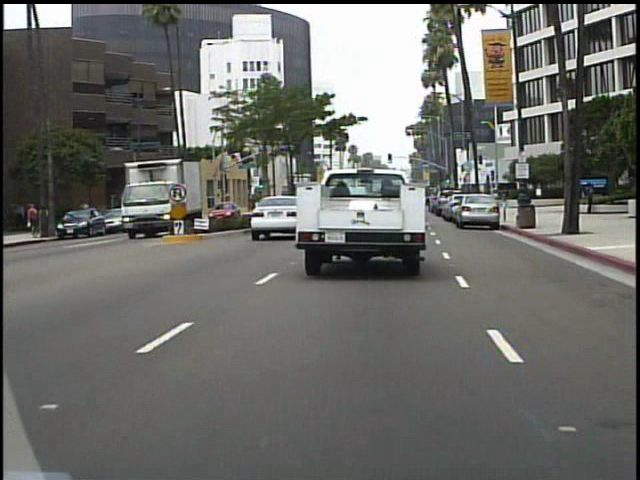person: (581, 179, 597, 217)
